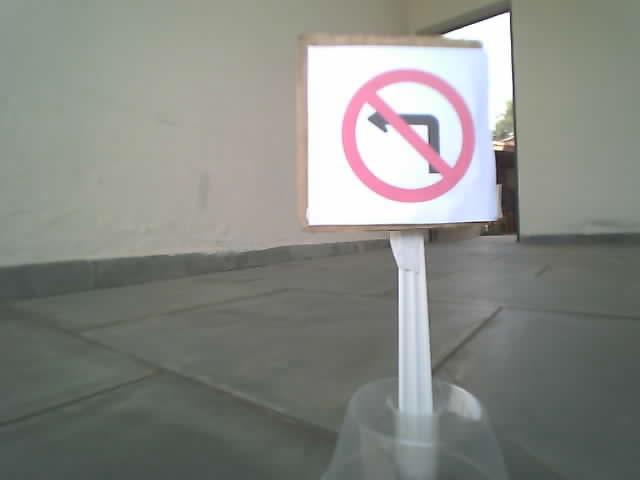R-4a_proibido-esquerda: (340, 67, 474, 204)
